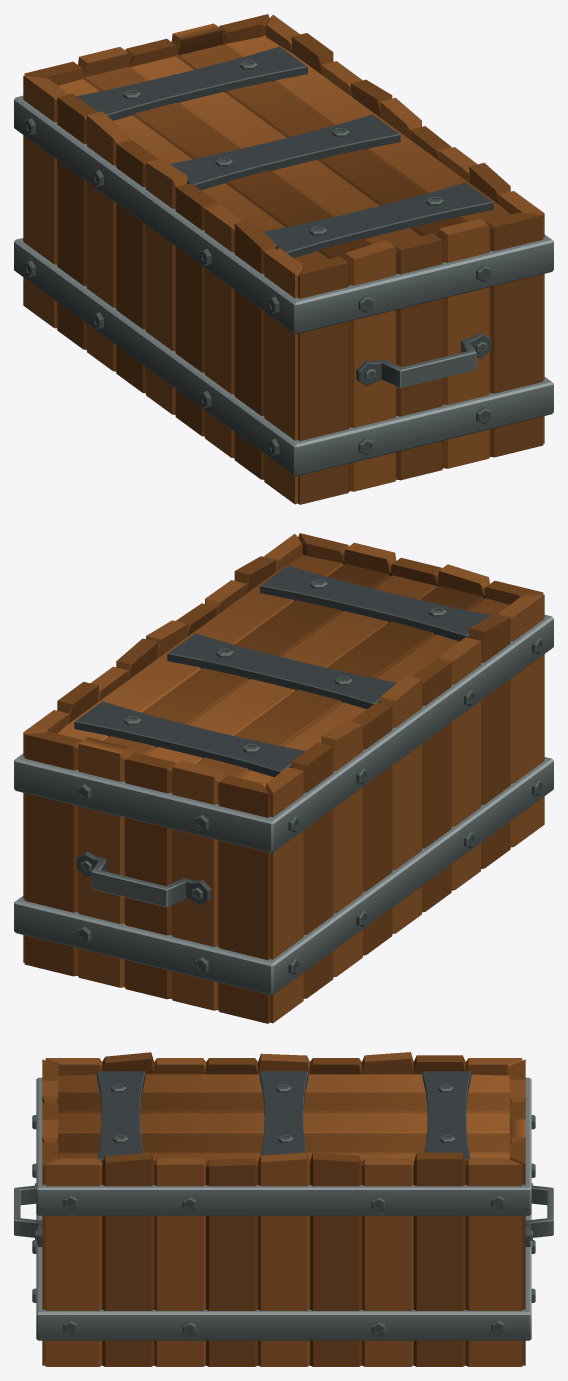
The picture shows the model from 3 angles, top to bottom: view 1: azimuth 30°, elevation 25°; view 2: azimuth 150°, elevation 25°; view 3: azimuth 270°, elevation 25°; orthographic projection. The views are drawn at different scales.
Visible parts, largest first — view 1: Box-2-2; view 2: Box-2-2; view 3: Box-2-2.
Boxes of the visible parts, box(x1,y1,x2,y2) form: Box-2-2: box(14, 14, 553, 504); Box-2-2: box(14, 533, 553, 1023); Box-2-2: box(14, 1052, 553, 1366).
Size of the model in its own units: 148 by 125 by 293.
